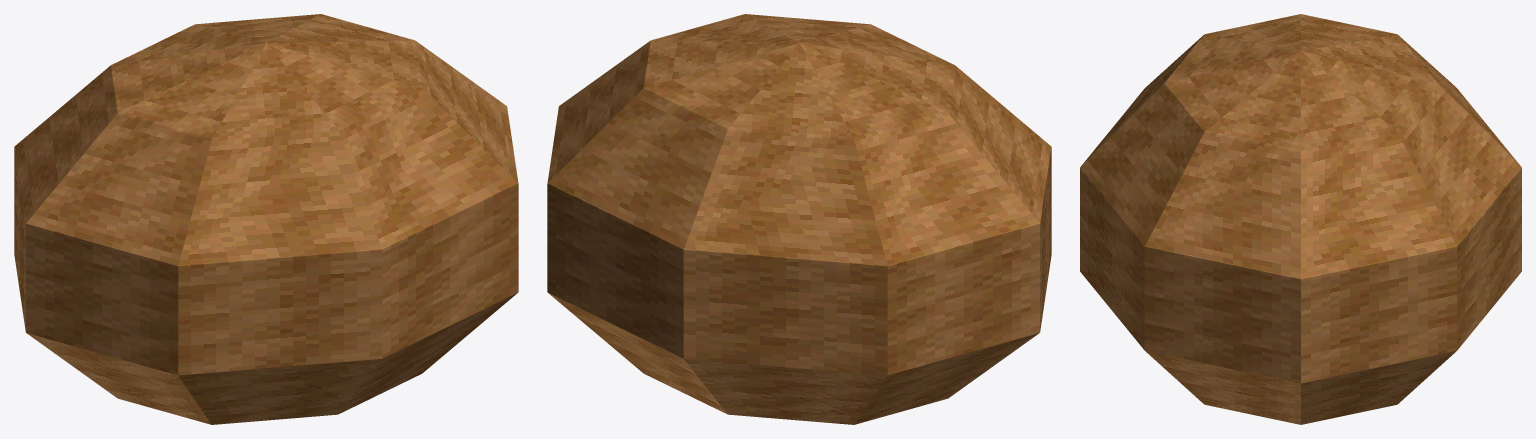
Rendered from batata_assada.glb.
3 views of the same model, side by side, from view 1: azimuth 30°, elevation 25°; view 2: azimuth 150°, elevation 25°; view 3: azimuth 270°, elevation 25° (orthographic). The views are drawn at different scales.
Parts seen in each view (by area): view 1: batata_assada; view 2: batata_assada; view 3: batata_assada.
Boxes of the visible parts, left/top/right/bottom form: batata_assada: left=14, top=14, right=518, bottom=424; batata_assada: left=547, top=14, right=1051, bottom=424; batata_assada: left=1080, top=14, right=1521, bottom=424.
Size of the model in its own units: 0.4109 by 0.288 by 0.3424.
Materials: 1 (1 with a texture image).
